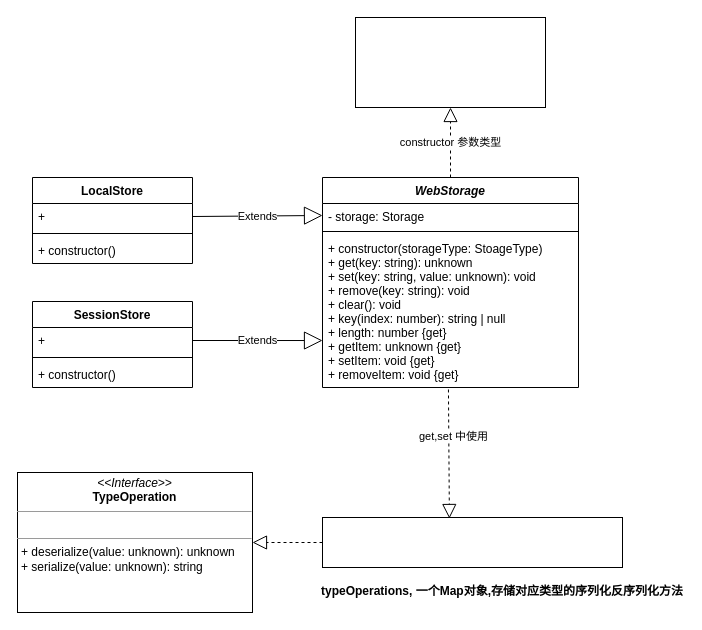
The diagram is 702 pixels wide and 630 high, and some of its shapes have lost their labels. Each missing label, with the centre of its shape:
<<enum>> StorageType + Local: string = "local" + Session: string = "session": the point at 450,62
typeOperations: Map<string, TypeOperation>: the point at 472,542
